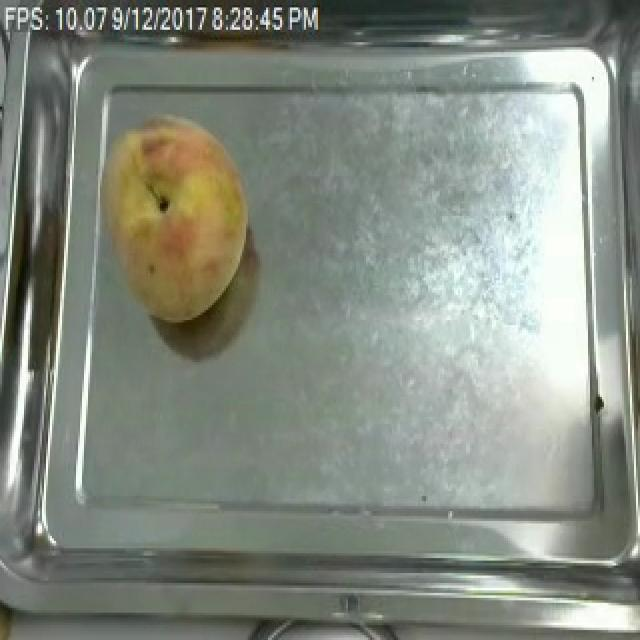Fruit: (82, 107, 258, 332)
